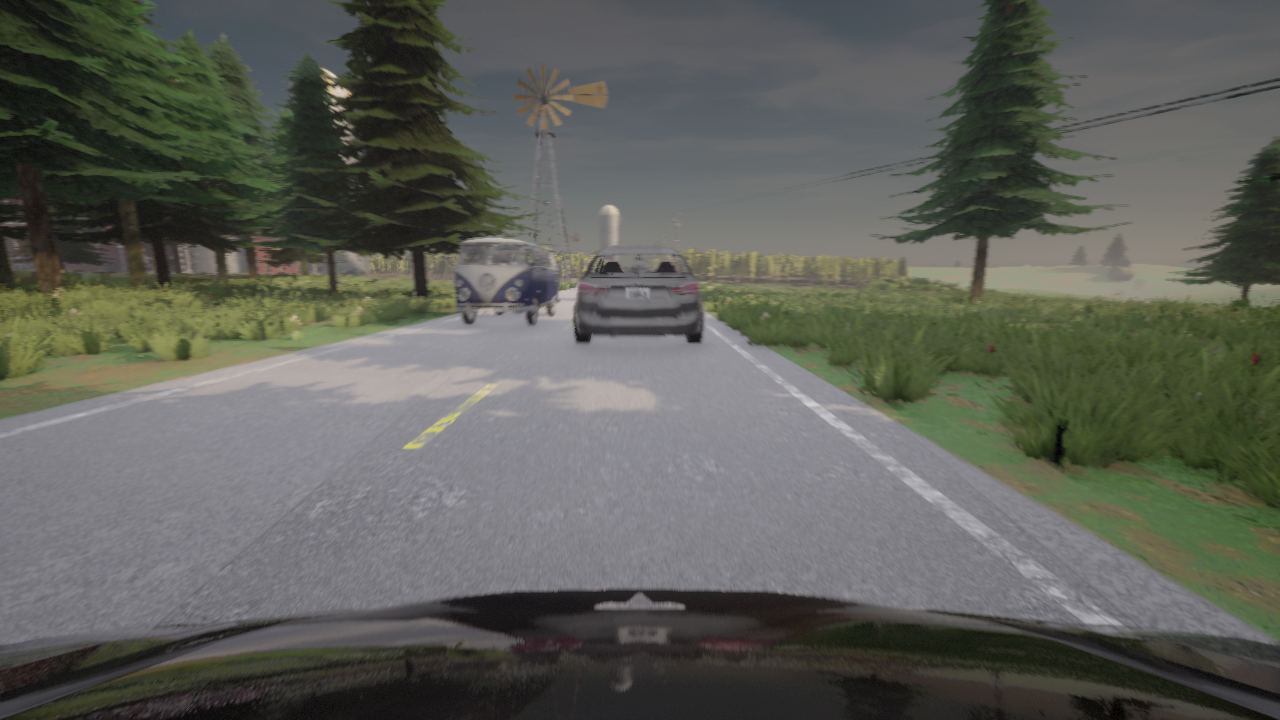cyclist: (0, 588, 1279, 719), (574, 246, 703, 344), (449, 238, 559, 325), (337, 269, 366, 277), (79, 271, 83, 272)
